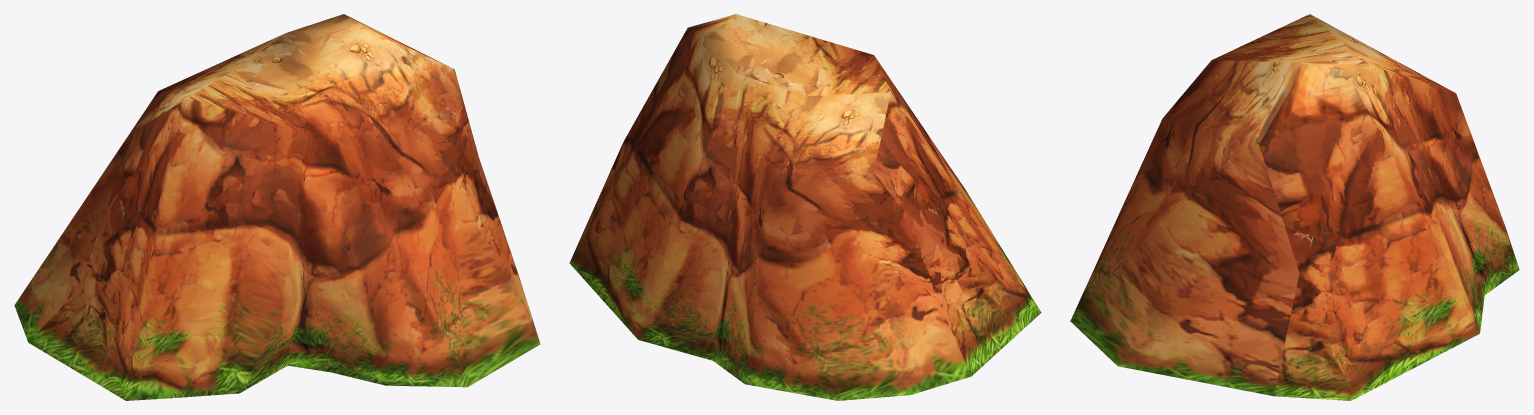
File: bch_rock1.fbx
3 renders of one model, left to right at view 1: azimuth 30°, elevation 25°; view 2: azimuth 150°, elevation 25°; view 3: azimuth 270°, elevation 25°, orthographic. The views are drawn at different scales.
Visible parts, largest first — view 1: bch_rock1; view 2: bch_rock1; view 3: bch_rock1.
Boxes of the visible parts, x1,y1,x2,y2 form: bch_rock1: [14, 14, 540, 400]; bch_rock1: [569, 14, 1041, 400]; bch_rock1: [1070, 14, 1519, 400].
Size of the model in its own units: 1866 by 1122 by 1695.
